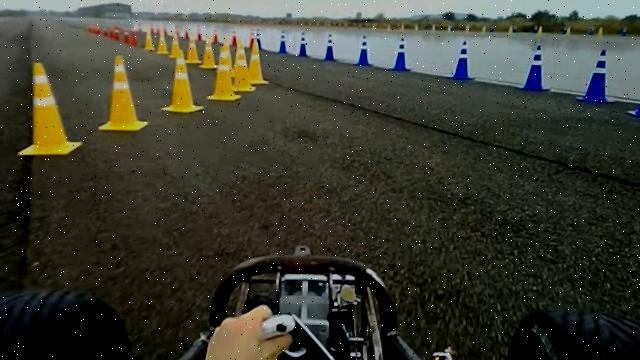blue cone: (576, 48, 616, 103), (520, 44, 550, 91), (449, 40, 475, 80), (627, 55, 640, 119), (390, 37, 412, 71), (354, 34, 373, 66), (323, 32, 335, 60)
yellow cone: (18, 61, 82, 157), (98, 54, 149, 132), (161, 48, 204, 113), (206, 44, 242, 102), (228, 43, 256, 92), (249, 37, 269, 85)
